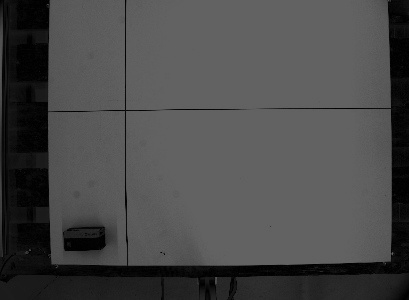b3: (61, 224, 107, 253)
